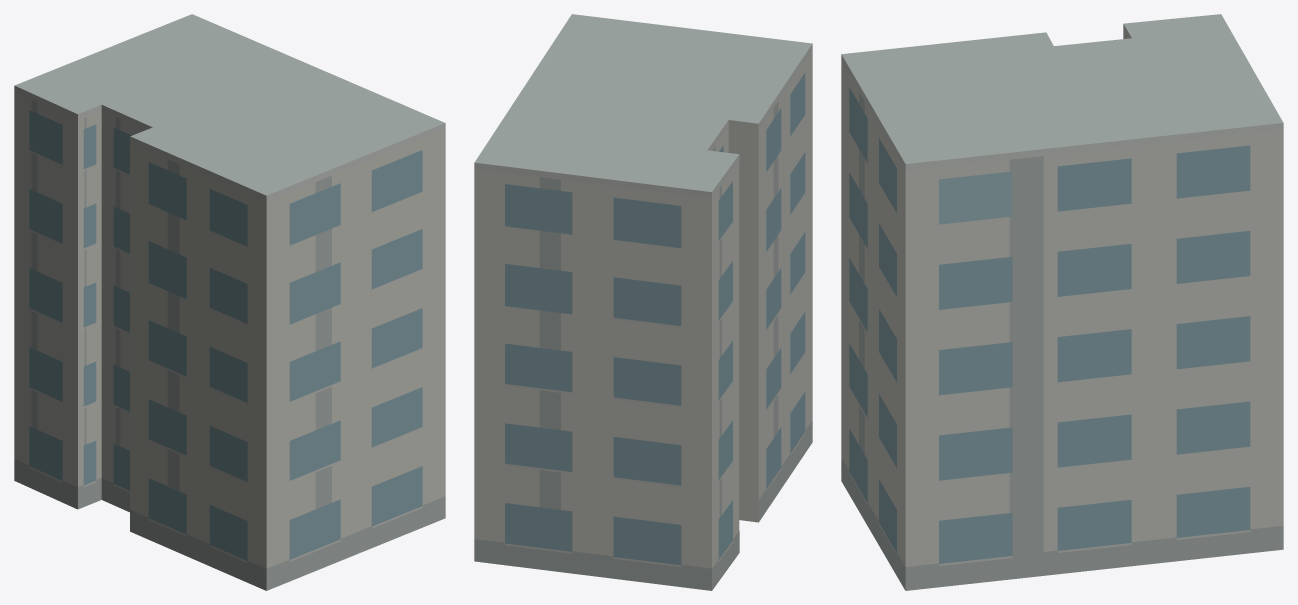
Rendered from survey-upis-32936195.glb.
The picture shows the model from 3 angles, left to right: view 1: azimuth 30°, elevation 25°; view 2: azimuth 150°, elevation 25°; view 3: azimuth 270°, elevation 25°; orthographic projection. The views are drawn at different scales.
Visible parts, largest first — view 1: survey-upis-32936195.tmp; view 2: survey-upis-32936195.tmp; view 3: survey-upis-32936195.tmp.
Boxes of the visible parts, x1,y1,x2,y2 form: survey-upis-32936195.tmp: [14, 14, 445, 590]; survey-upis-32936195.tmp: [474, 14, 812, 590]; survey-upis-32936195.tmp: [841, 14, 1283, 590].
Size of the model in its own units: 11.33 by 15 by 14.1.
